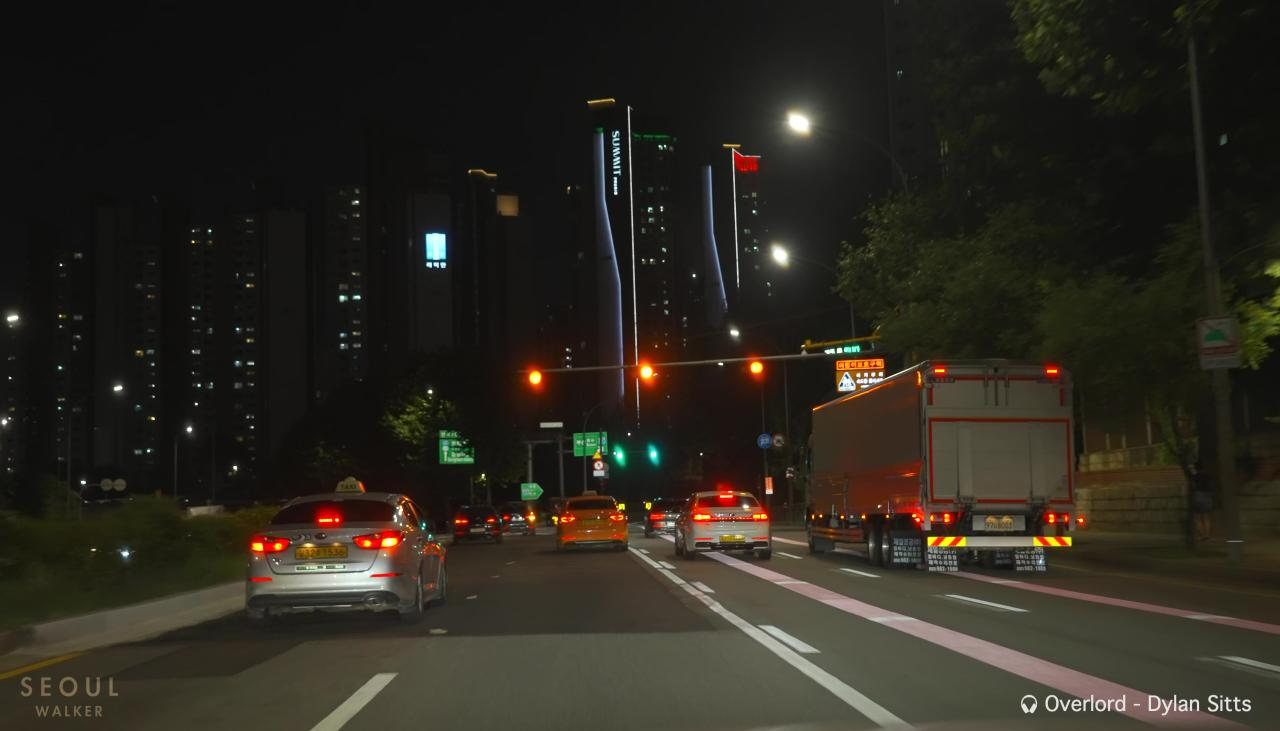Yellow Light: (639, 365, 654, 380), (528, 370, 543, 384), (750, 360, 764, 375)
